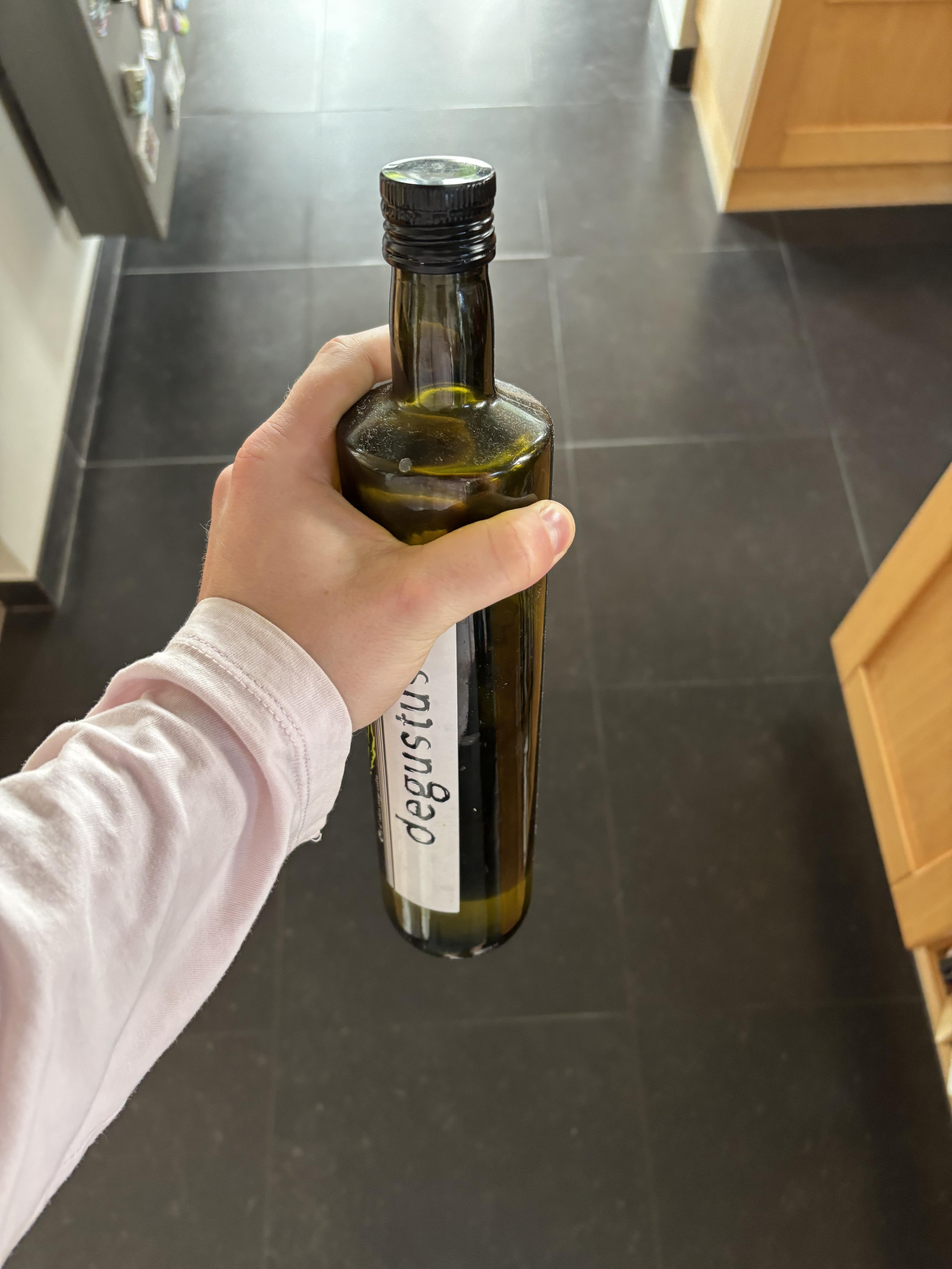Glass: (333, 160, 560, 956)
